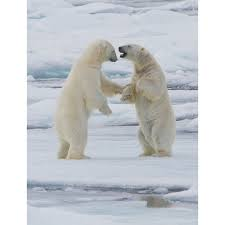PolarBear: (51, 36, 118, 164)
